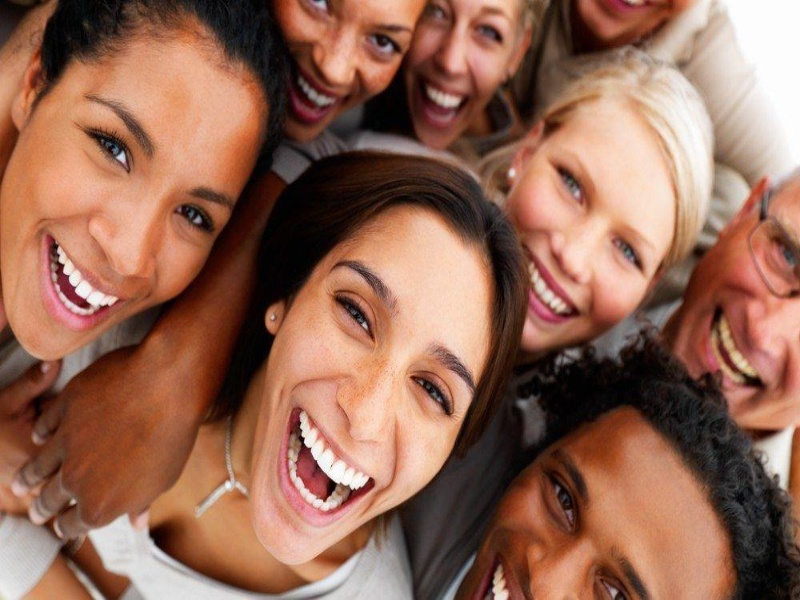smile: (10, 28, 226, 352), (263, 229, 468, 554), (456, 418, 745, 600), (505, 104, 668, 343), (691, 176, 799, 439), (280, 1, 405, 140), (417, 4, 511, 145)
